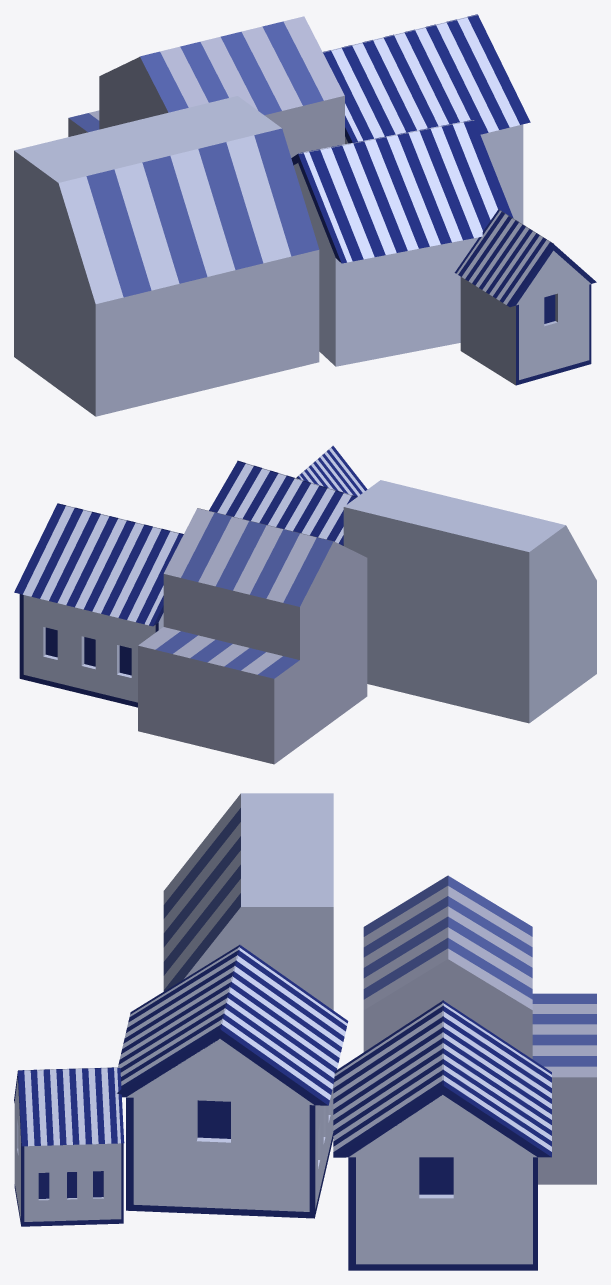
Rendered from Village_front_side.gltf.
3 renders of one model, top to bottom at view 1: azimuth 30°, elevation 25°; view 2: azimuth 150°, elevation 25°; view 3: azimuth 270°, elevation 25°, orthographic. The views are drawn at different scales.
Parts seen in each view (by area): view 1: Cube.002, Cube.006, Cube, Cube.001, Cube.007; view 2: Cube.002, Cube.001, Cube, Cube.006, Cube.007; view 3: Cube.006, Cube, Cube.001, Cube.002, Cube.007.
Boxes of the visible parts, x1,y1,x2,y2 form: Cube.002: [14, 96, 319, 416]; Cube.006: [291, 119, 513, 366]; Cube: [322, 14, 530, 224]; Cube.001: [68, 16, 344, 157]; Cube.007: [454, 209, 596, 385]; Cube.002: [343, 480, 596, 723]; Cube.001: [138, 508, 367, 764]; Cube: [14, 503, 183, 707]; Cube.006: [209, 460, 357, 545]; Cube.007: [296, 445, 367, 496]; Cube.006: [117, 944, 348, 1218]; Cube: [333, 1000, 551, 1270]; Cube.001: [363, 875, 596, 1184]; Cube.002: [163, 793, 333, 1010]; Cube.007: [14, 1067, 124, 1226].
Size of the model in its own units: 6.28 by 2.53 by 5.9.
